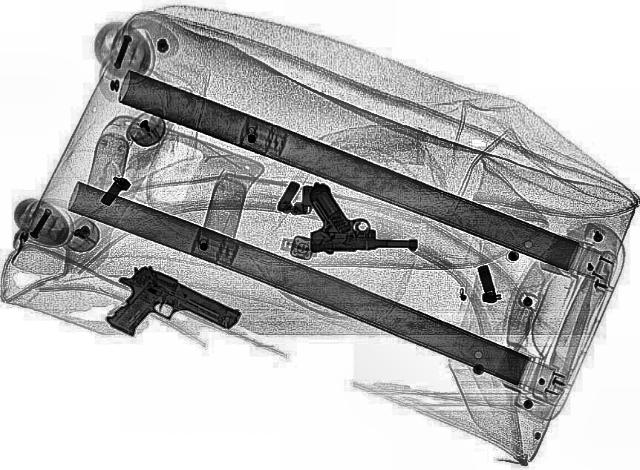Gun: (82, 260, 245, 366), (307, 182, 417, 252)
